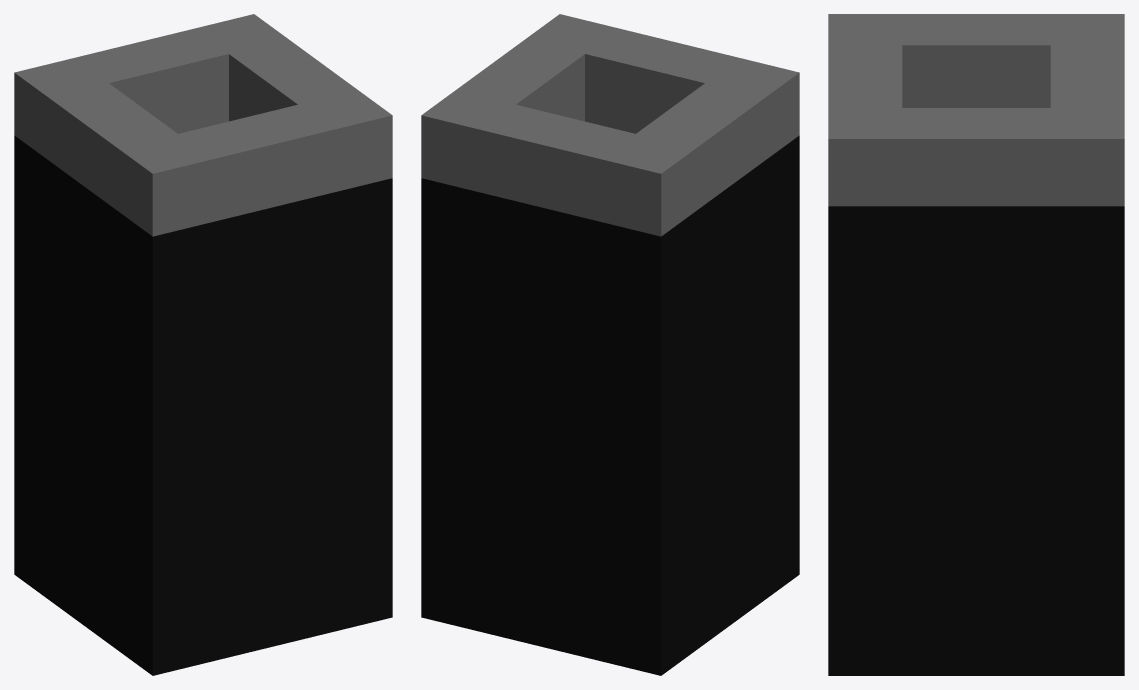
File: trash_can_01.glb
3 renders of one model, left to right at view 1: azimuth 30°, elevation 25°; view 2: azimuth 150°, elevation 25°; view 3: azimuth 270°, elevation 25°, orthographic. The views are drawn at different scales.
Parts seen in each view (by area): view 1: Untitled; view 2: Untitled; view 3: Untitled.
Boxes of the visible parts, x1,y1,x2,y2 form: Untitled: (14,14,392,675); Untitled: (421,14,799,675); Untitled: (828,14,1124,675).
Bounding box in the file's own units: 0.24 × 0.48 × 0.24.
Materials: 1 (1 with a texture image).
